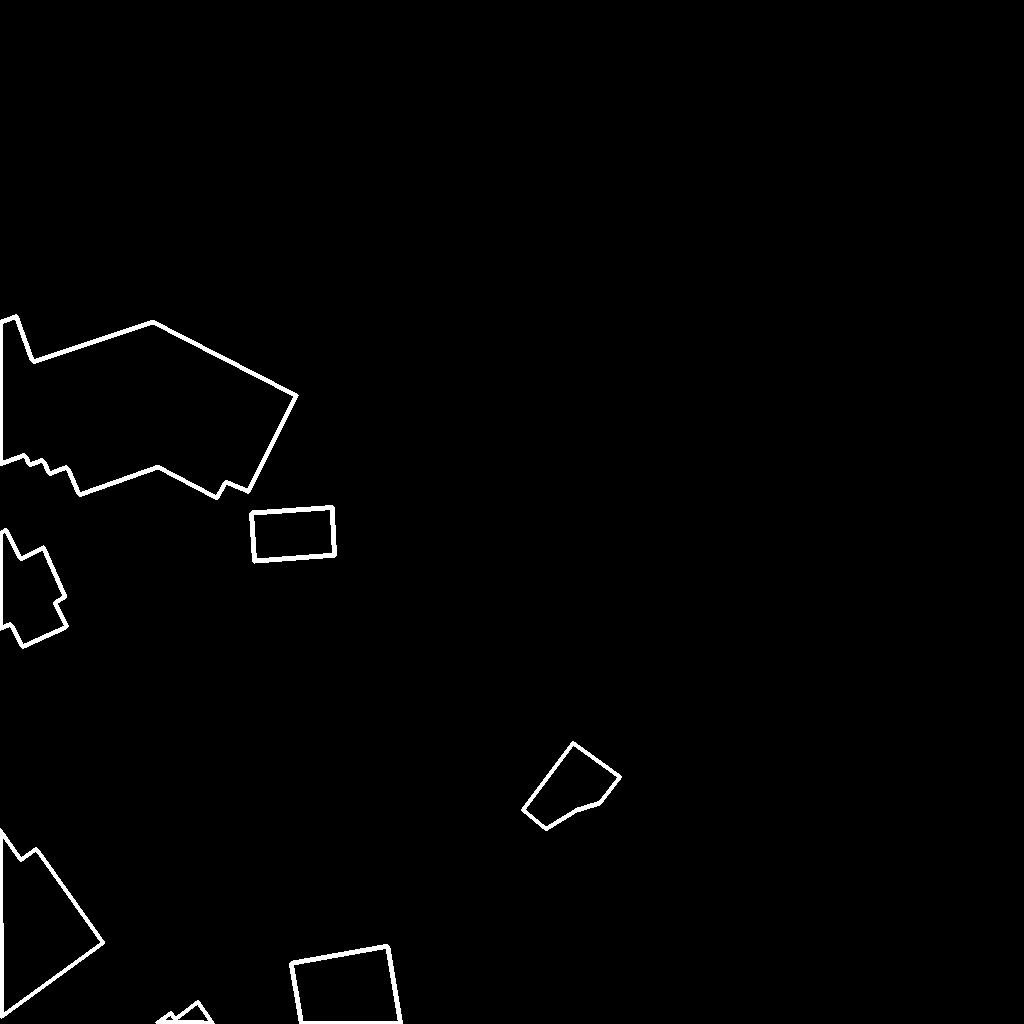building: (0, 316, 298, 499), (0, 830, 104, 1018), (157, 946, 402, 1024), (523, 743, 621, 830), (0, 530, 68, 648), (251, 507, 336, 562)
